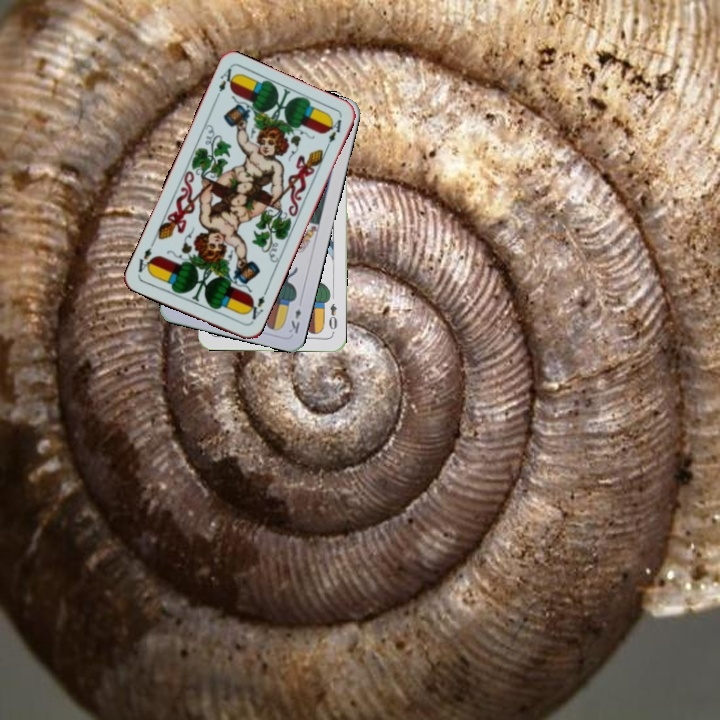EA: (210, 65, 238, 103), (243, 287, 269, 322)
EK: (285, 304, 304, 336)
EO: (325, 299, 340, 335)
